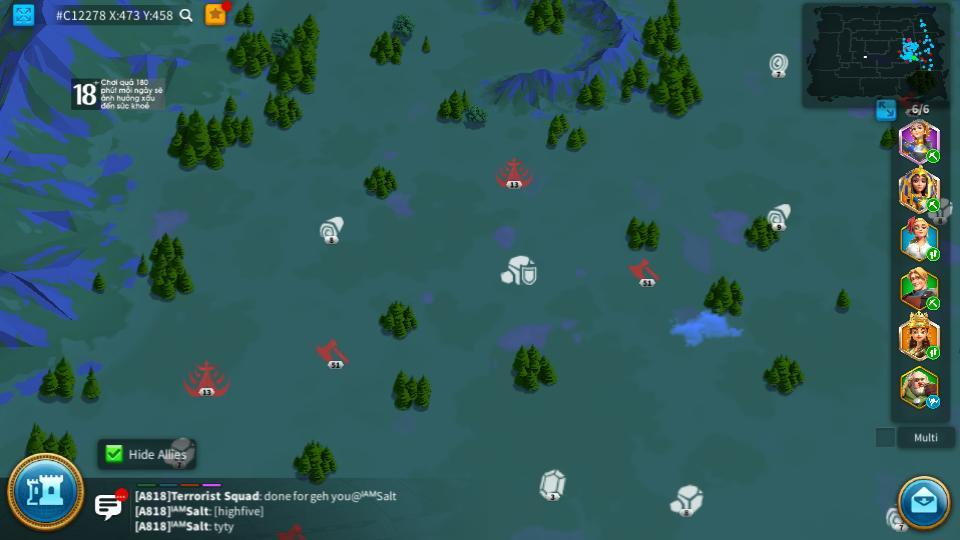gem-z-out: (537, 470, 567, 498), (676, 484, 702, 504)
march_farming: (925, 197, 941, 212), (925, 149, 941, 162), (925, 249, 941, 261)
march_idle: (925, 396, 942, 408)
march_marching: (925, 345, 941, 359), (925, 297, 942, 308)
